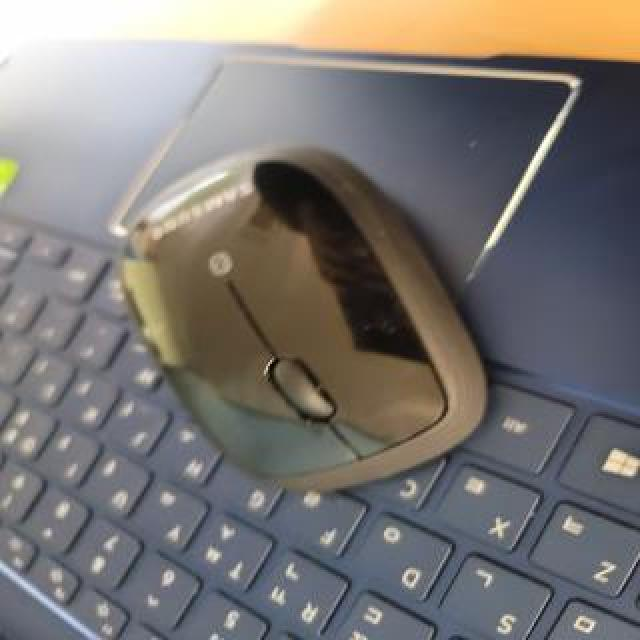mouse: (139, 154, 515, 469)
